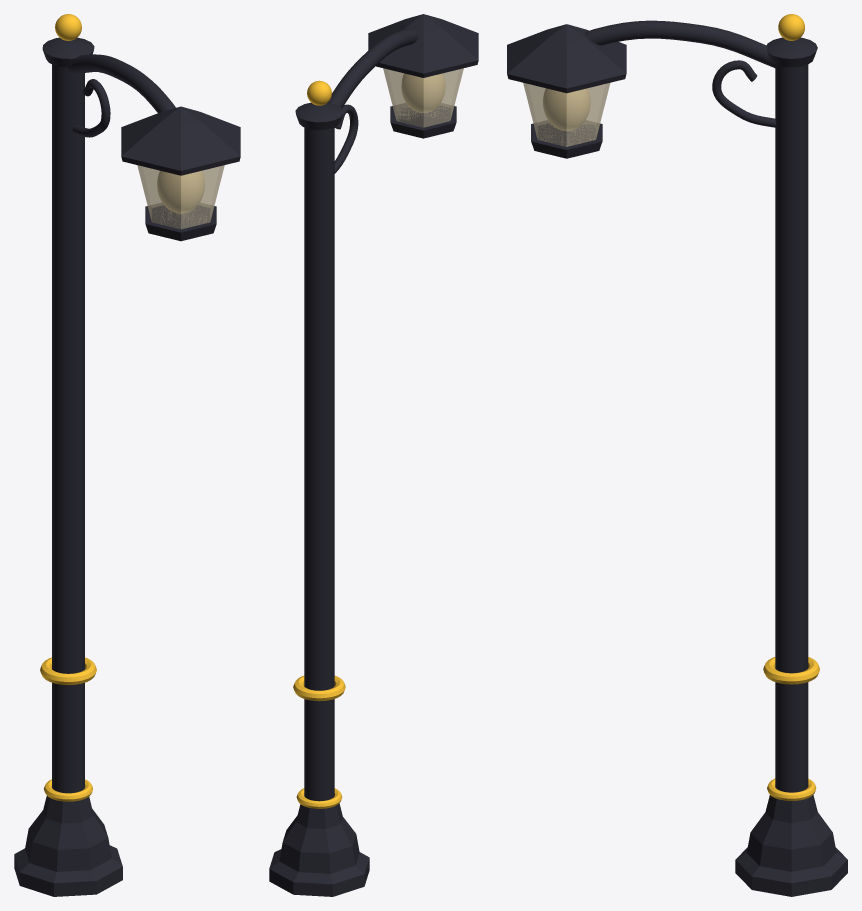
Rendered from PropStreetLamp.fbx.
The picture shows the model from 3 angles, left to right: view 1: azimuth 30°, elevation 25°; view 2: azimuth 150°, elevation 25°; view 3: azimuth 270°, elevation 25°; orthographic projection. The views are drawn at different scales.
Visible parts, largest first — view 1: Iron, Glass, Gold, Glow; view 2: Iron, Glass, Gold, Glow; view 3: Iron, Glass, Gold, Glow.
Boxes of the visible parts, x1=… form: Iron: x1=14, y1=37, x2=240, y2=896; Glass: x1=137, y1=165, x2=224, y2=229; Gold: x1=40, y1=14, x2=96, y2=801; Glow: x1=157, y1=171, x2=204, y2=213; Iron: x1=269, y1=14, x2=478, y2=896; Glass: x1=383, y1=68, x2=463, y2=127; Gold: x1=293, y1=80, x2=345, y2=808; Glow: x1=401, y1=73, x2=445, y2=112; Iron: x1=507, y1=20, x2=847, y2=896; Glass: x1=523, y1=82, x2=610, y2=146; Gold: x1=763, y1=14, x2=819, y2=800; Glow: x1=543, y1=88, x2=590, y2=130.
Bounding box in the file's own units: 184 × 1263 × 455.
